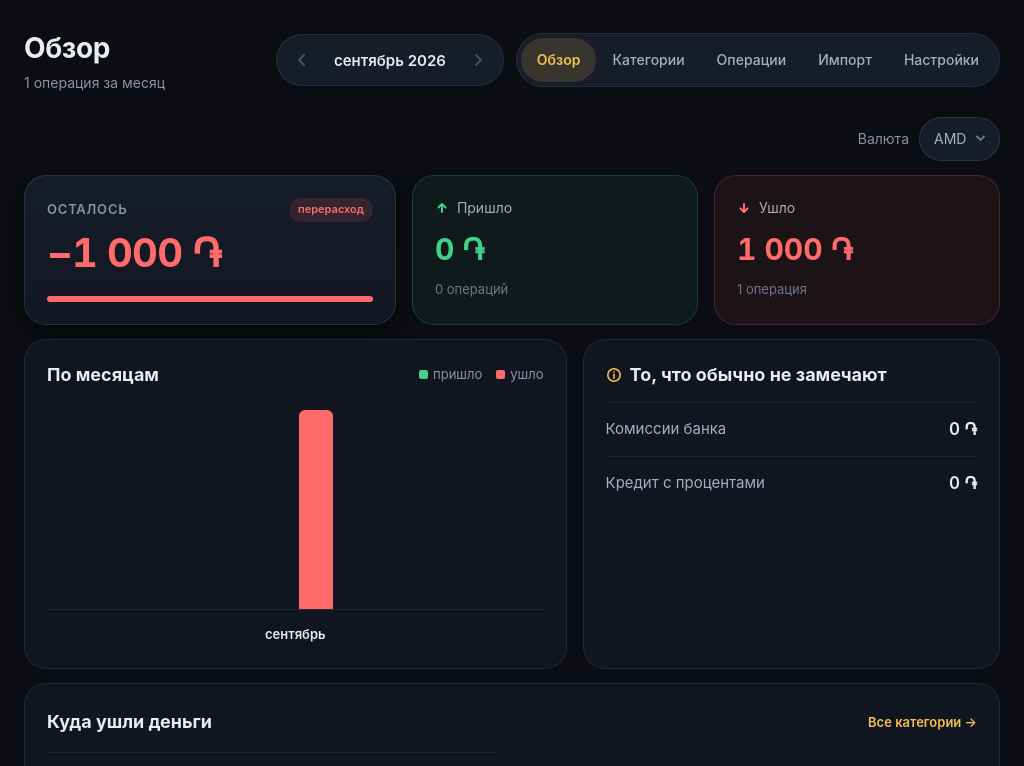
Scenario: App currency switcher › очередь «Разобрать» следует за переключением валюты, а не застревает на прежней
Check: the text with test id "total-expense" is shown, box top-left (737, 231), bottom-right (853, 267)
Click the button "Категории" at (649, 60), box top-left (596, 38), bottom-right (701, 82)
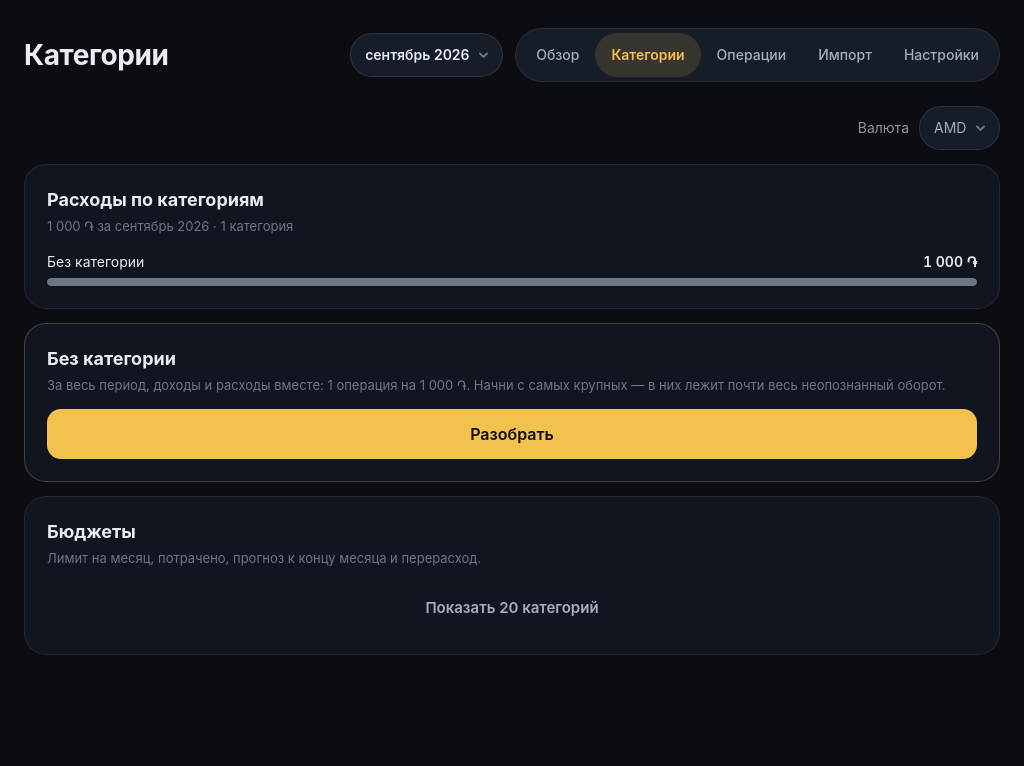
Click the button "Разобрать" at (512, 434), box top-left (47, 409), bottom-right (977, 459)
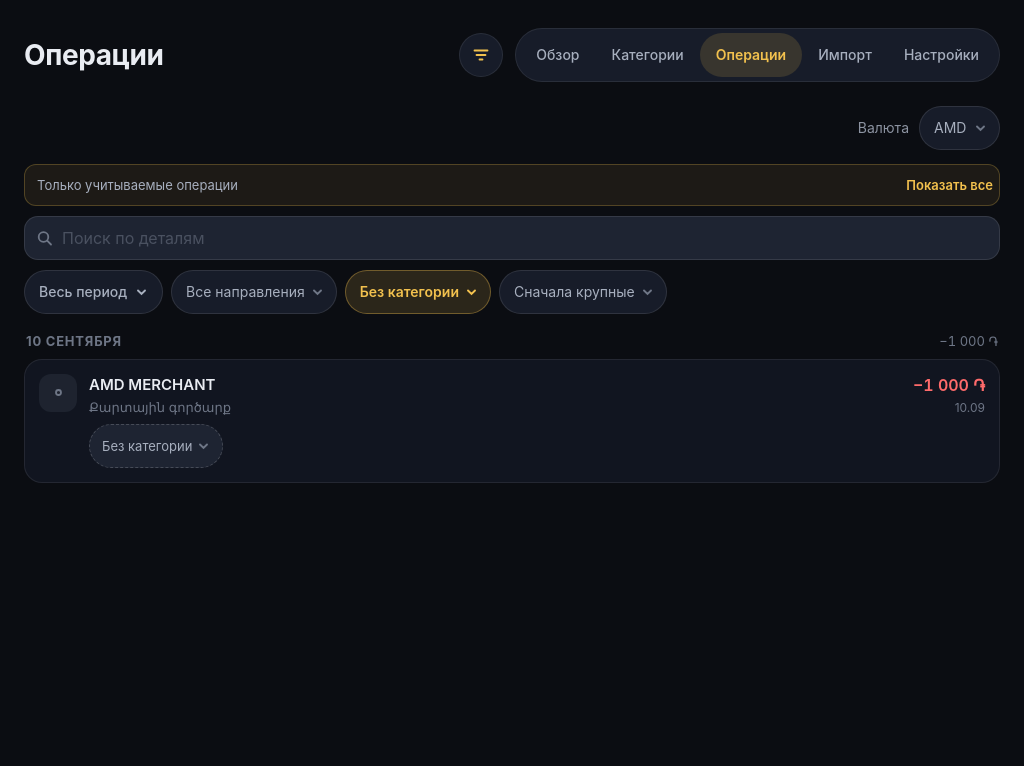
Check: the text "USD MERCHANT" is not shown
Check: the text "AMD MERCHANT" is shown, box top-left (89, 375), bottom-right (216, 394)
Note: Переключаем валюту приложения, оставаясь на экране очереди — не заходя в «Разобрать» заново.
Select "USD" in the dropdown named "Валюта" at (960, 128), box top-left (919, 106), bottom-right (1000, 150)
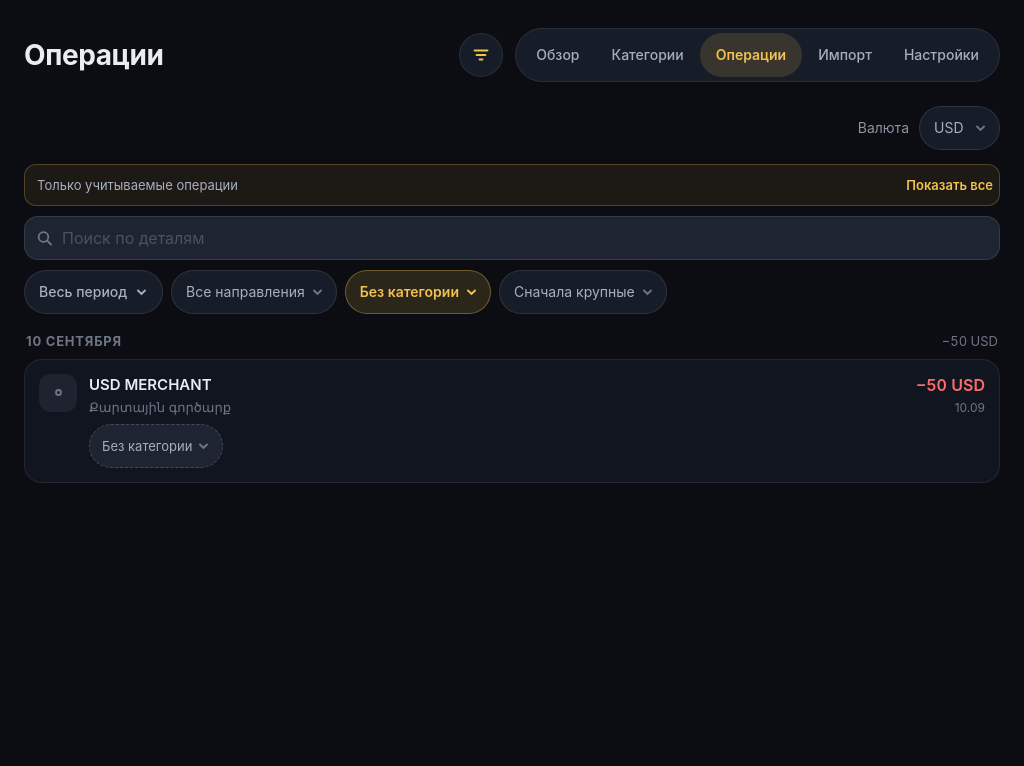
Check: the text "AMD MERCHANT" is gone
Check: the text "USD MERCHANT" is shown, box top-left (89, 375), bottom-right (212, 394)
